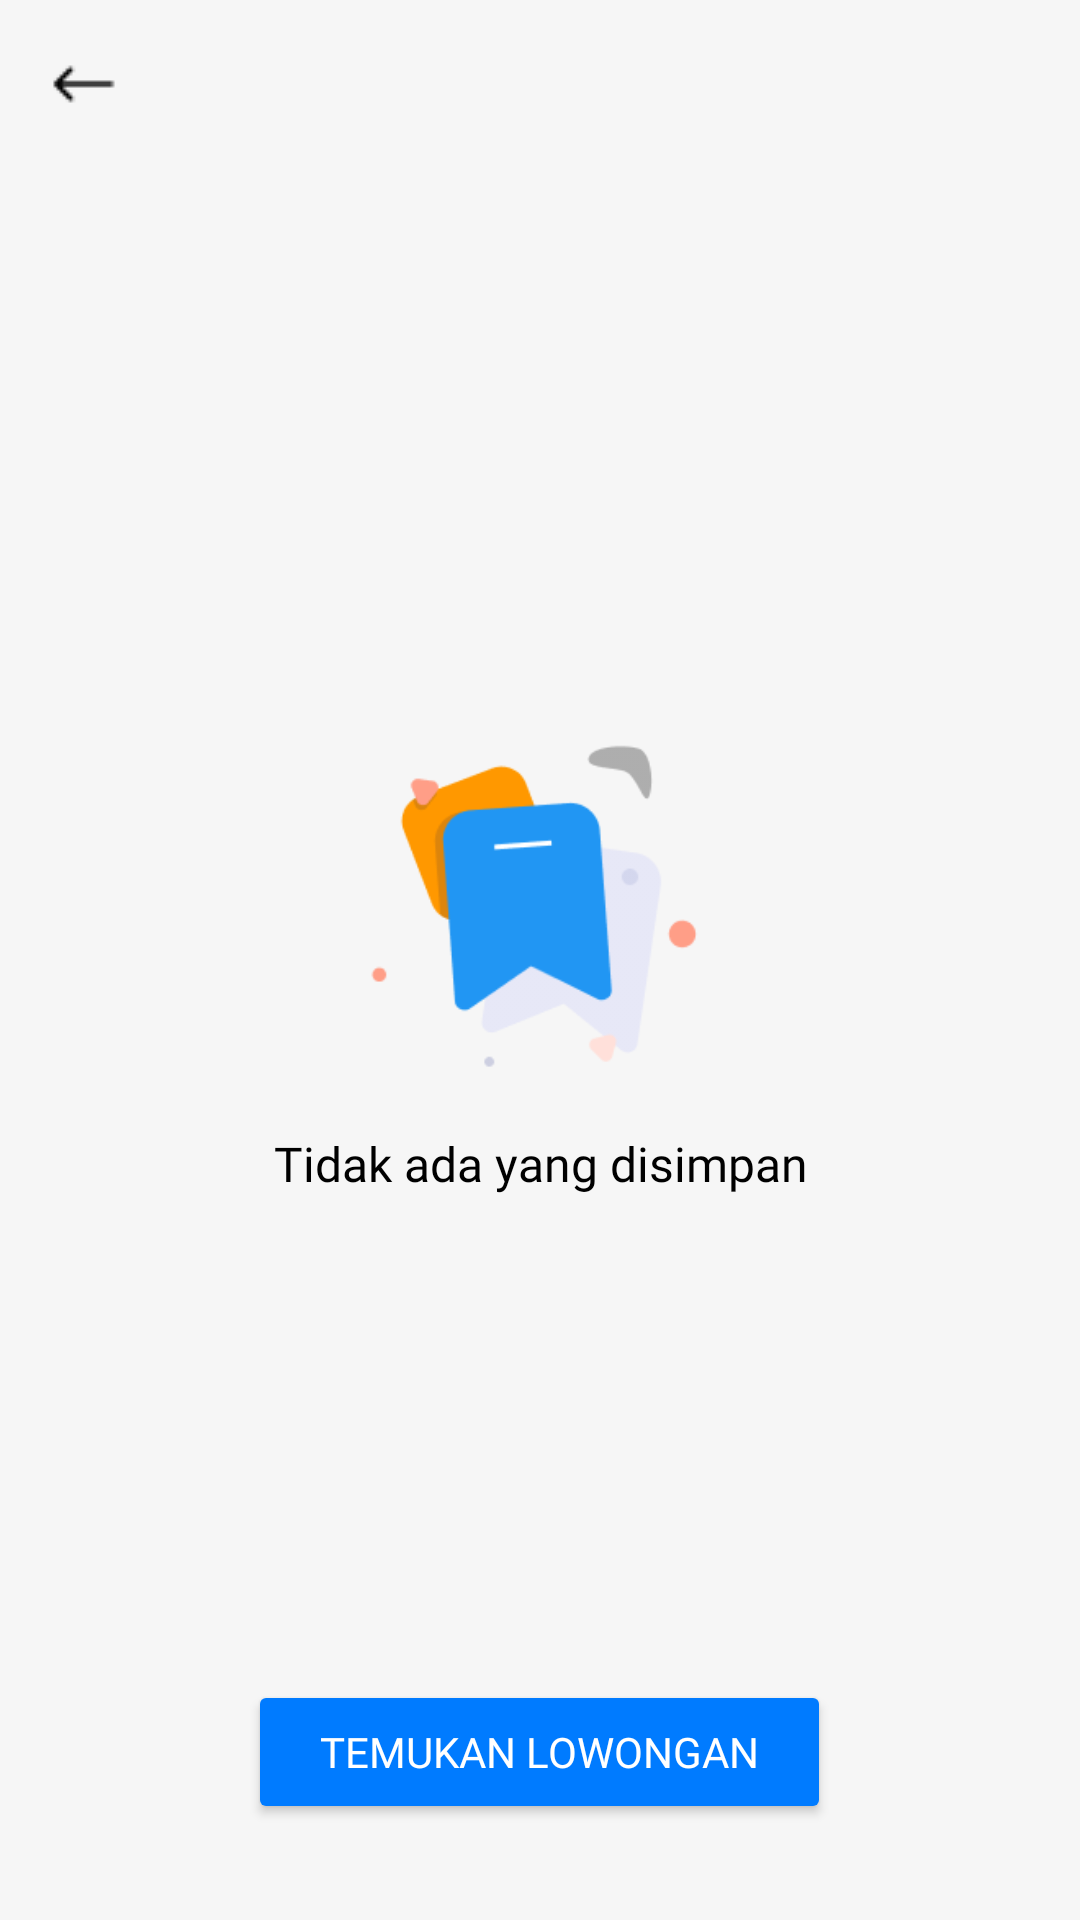

Screen size 1080 × 1920. Icon name, then its center in pixels as (x=x, y=y):
Back: (x=84, y=84)
